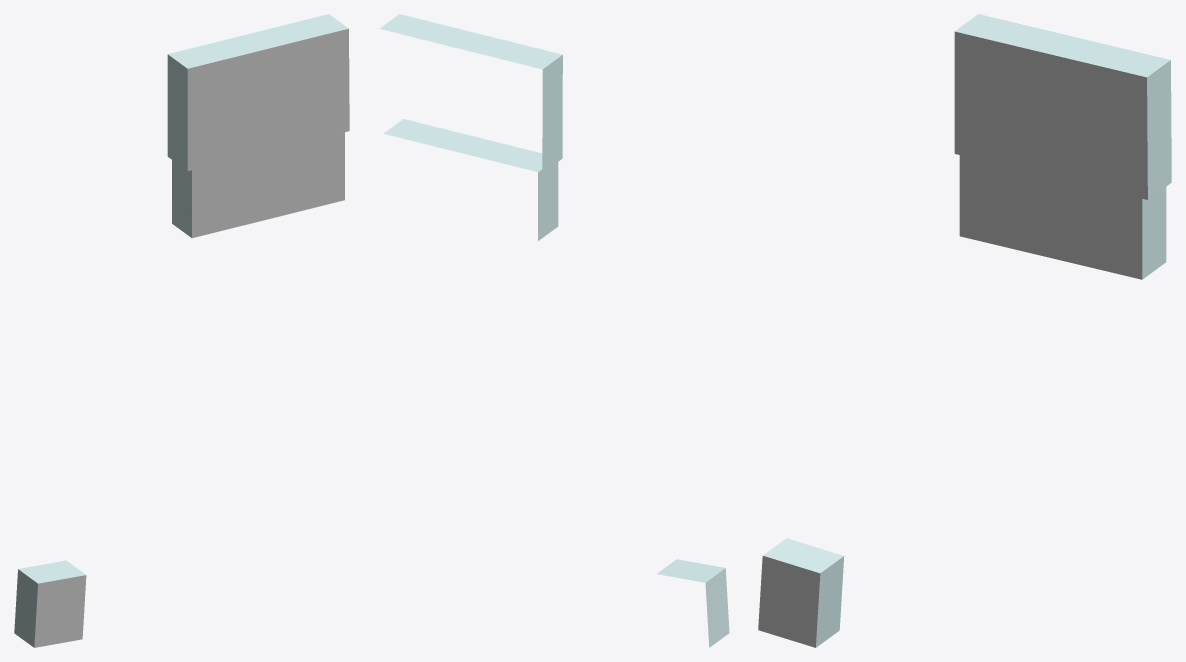
3 views of the same model, side by side, from view 1: azimuth 30°, elevation 25°; view 2: azimuth 150°, elevation 25°; view 3: azimuth 330°, elevation 25° (orthographic). The views are drawn at different scales.
Parts seen in each view (by area): view 1: 0_2_2_0_2_2_1_1_1; view 2: 0_2_2_0_2_2_1_1_1; view 3: 0_2_2_0_2_2_1_1_1.
Part boxes in pixels (x1,y1,x2,y2): 0_2_2_0_2_2_1_1_1: (14, 14, 349, 647); 0_2_2_0_2_2_1_1_1: (379, 14, 729, 647); 0_2_2_0_2_2_1_1_1: (758, 14, 1171, 647).
Bounding box in the file's own units: 27.76 × 44.66 × 3.84.
